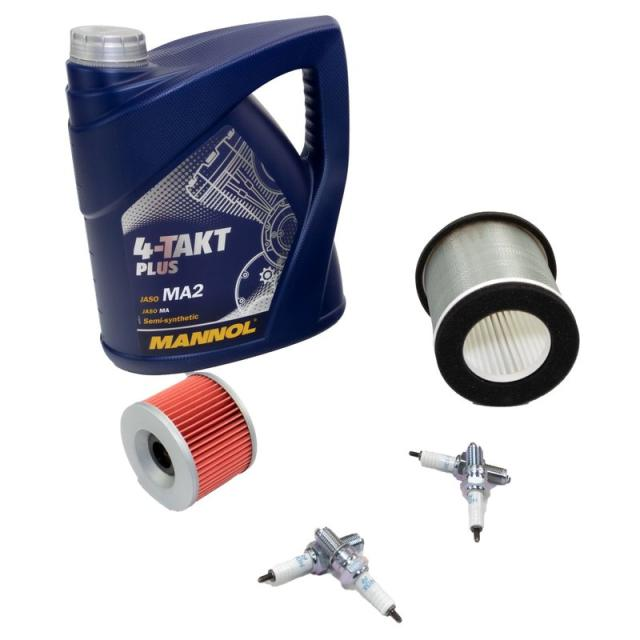motor_oil: (61, 12, 351, 366)
oil_filter: (417, 207, 587, 411), (113, 372, 265, 514)
